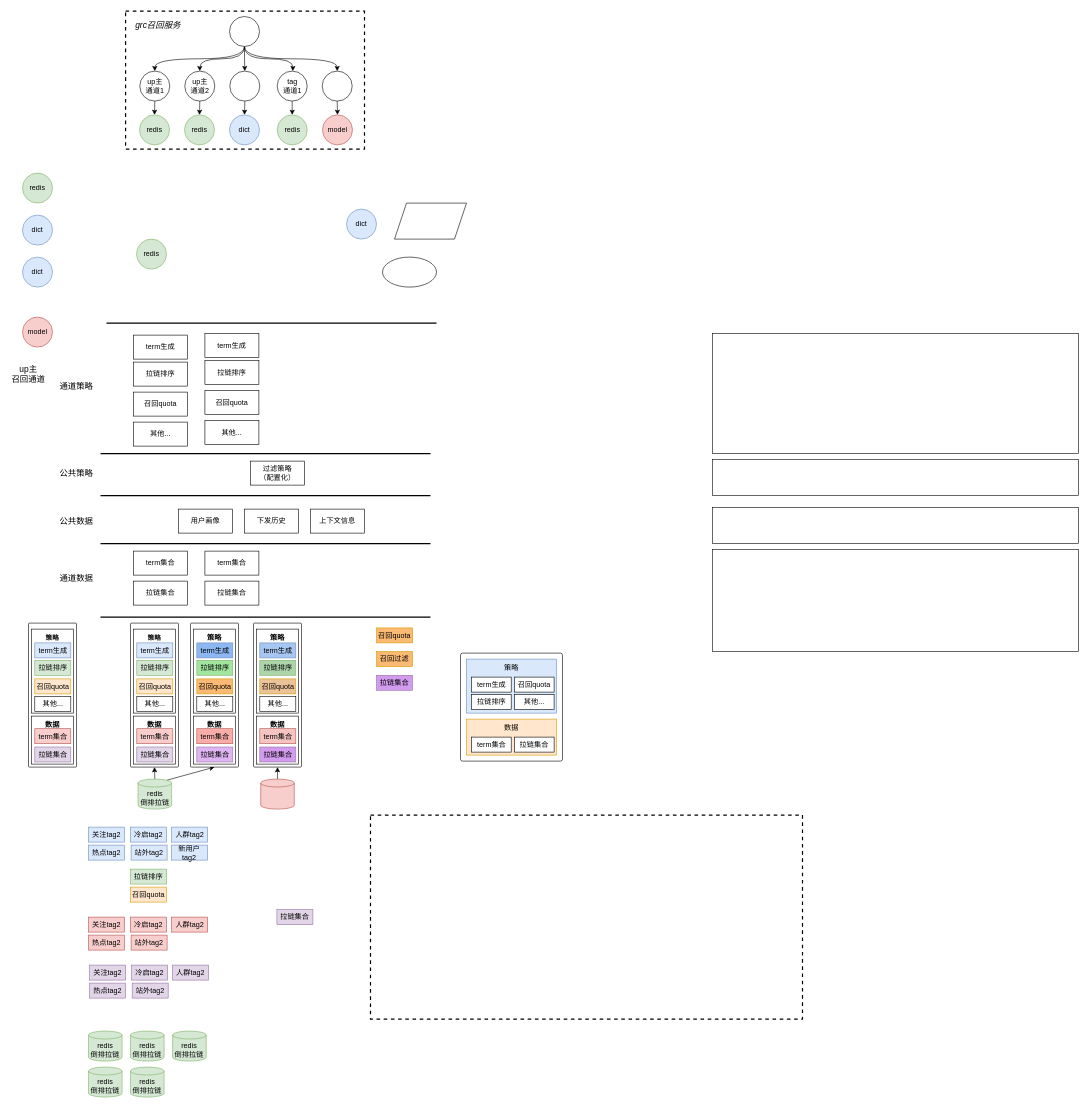
The diagram is 1089 pixels wide and 1108 high, and some of its shapes have lost their labels. Here are the shapes that lost their labels. From the top down, the box of each, then its label:
(229, 16, 260, 46): 合并
(229, 70, 260, 101): up主 通道3
(322, 70, 352, 101): tag 通道2
(382, 256, 436, 287): term生成策略
(260, 778, 294, 809): 词典 倒排拉链
